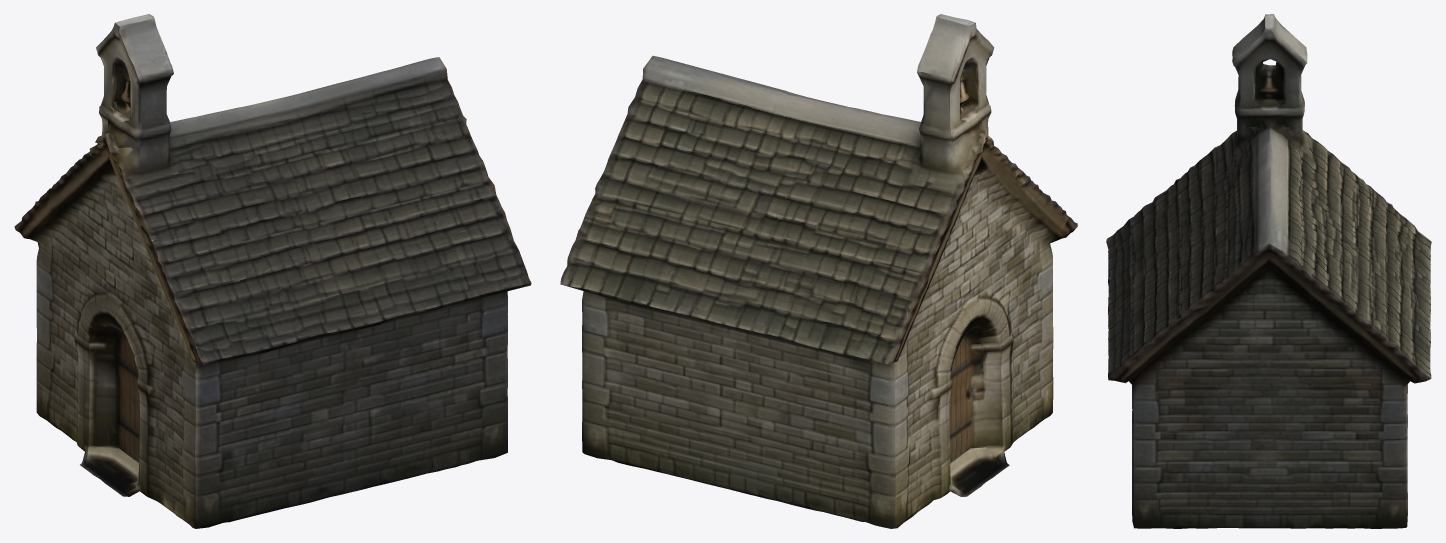
Rendered from chapel.glb.
The picture shows the model from 3 angles, left to right: view 1: azimuth 30°, elevation 25°; view 2: azimuth 150°, elevation 25°; view 3: azimuth 270°, elevation 25°; orthographic projection. The views are drawn at different scales.
Visible parts, largest first — view 1: Chapel; view 2: Chapel; view 3: Chapel.
Boxes of the visible parts, left/top/right/bottom form: Chapel: left=14, top=14, right=531, bottom=528; Chapel: left=560, top=14, right=1077, bottom=528; Chapel: left=1106, top=14, right=1431, bottom=528.
Bounding box in the file's own units: 3.91 × 5 × 3.79.
Materials: 1 (1 with a texture image).
